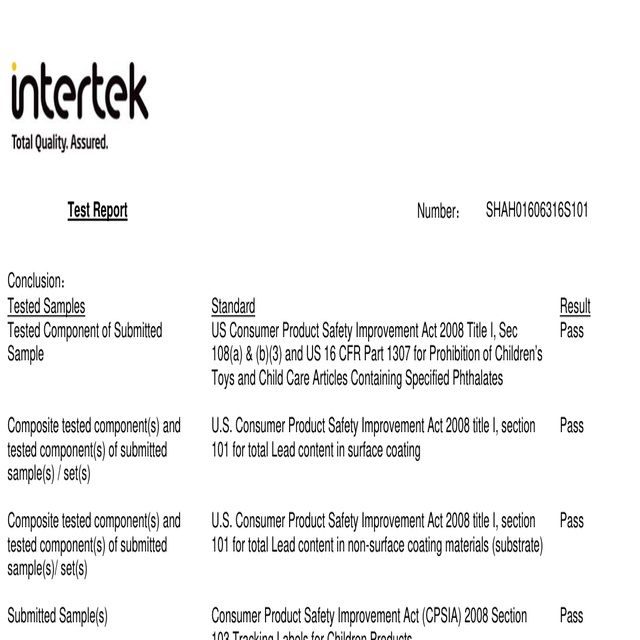intertek: (9, 58, 149, 125)
